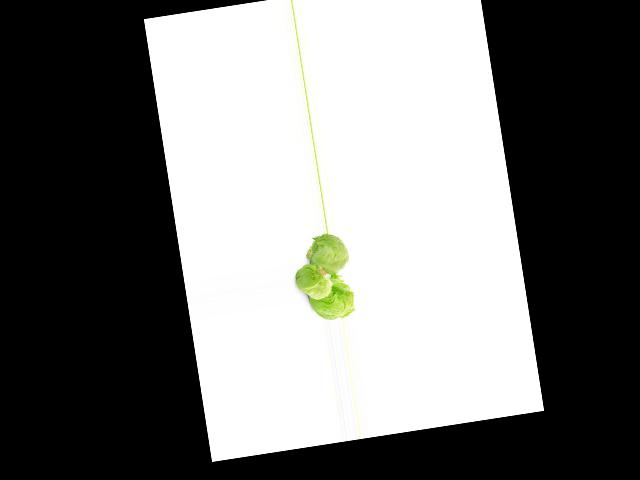lettuce: (309, 278, 354, 320)
